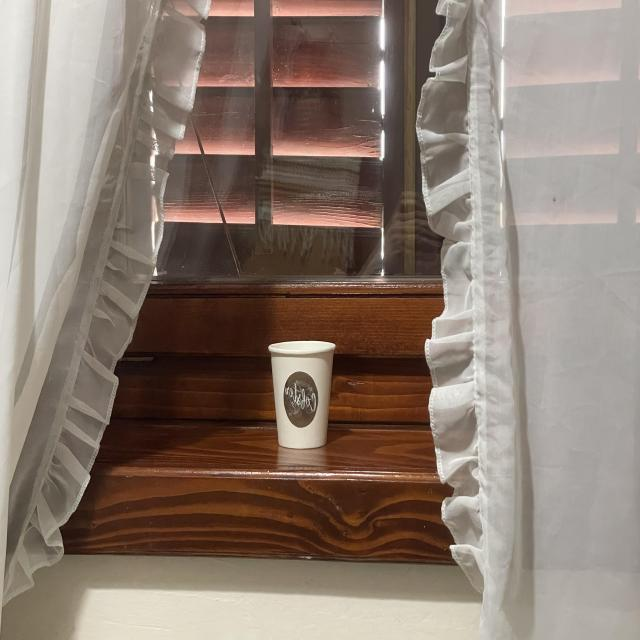small: (268, 335, 335, 451)
